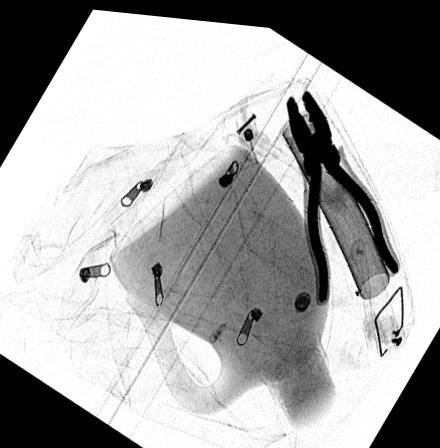Pliers: (282, 81, 398, 298)
